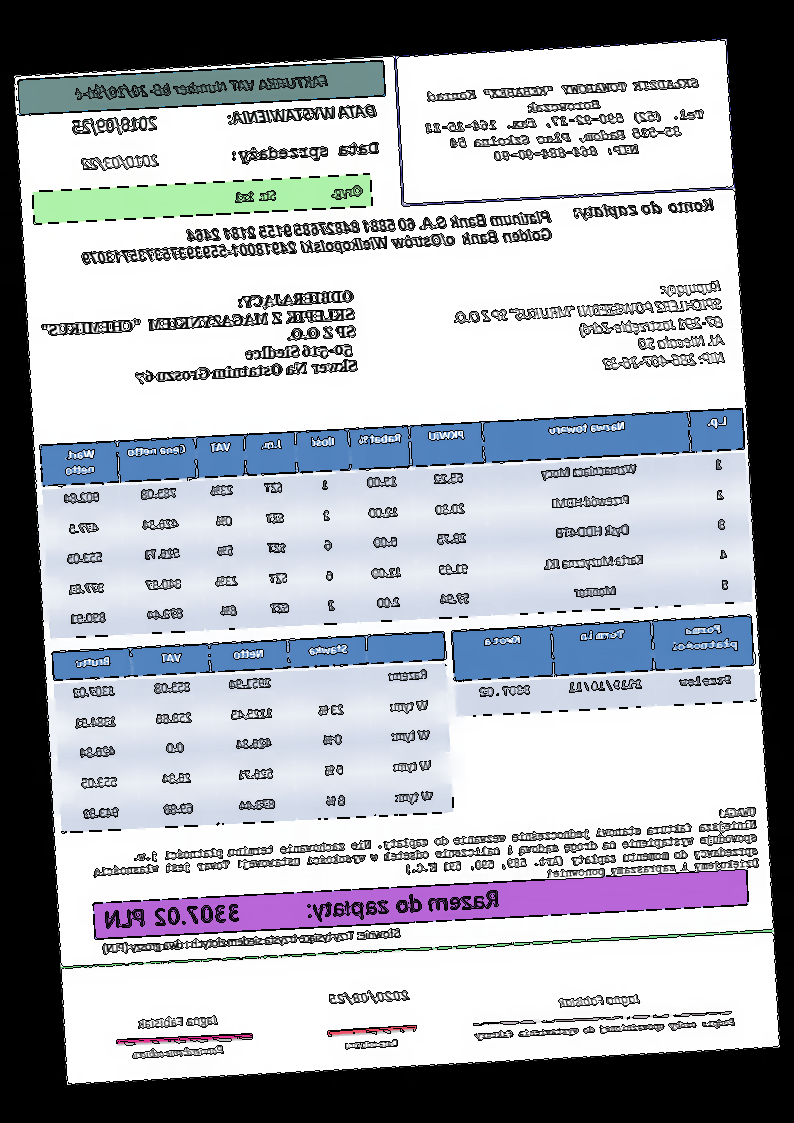Table: (38, 406, 755, 639), (51, 631, 454, 835), (450, 613, 759, 719)
TextBox: (92, 805, 761, 906), (40, 288, 359, 390), (80, 207, 555, 268), (451, 276, 728, 380), (421, 75, 706, 168), (103, 885, 502, 935), (101, 925, 403, 958), (71, 72, 332, 104), (474, 1015, 738, 1043), (228, 137, 381, 167), (225, 101, 379, 128), (572, 196, 718, 224), (232, 182, 365, 207), (70, 112, 160, 137), (130, 1042, 226, 1062), (138, 1012, 220, 1032), (79, 153, 161, 172), (558, 992, 643, 1010), (327, 988, 411, 1006), (343, 1036, 401, 1052)
